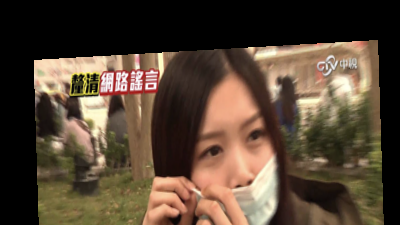mask_weared_incorrect: (127, 47, 329, 223)
